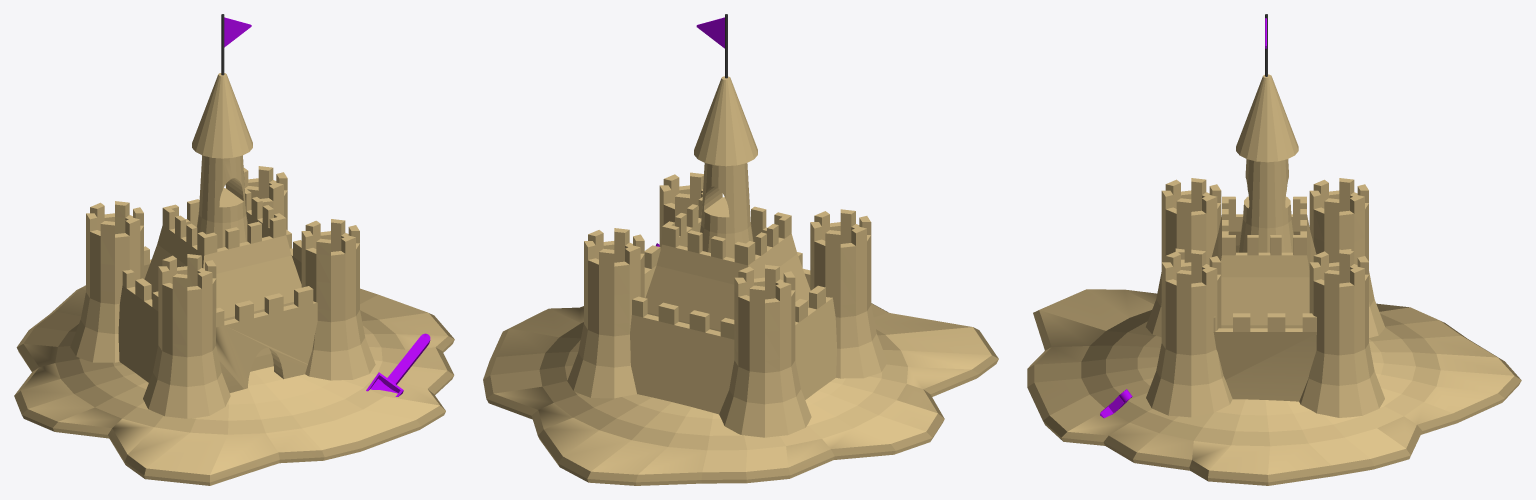
Rendered from sand-castle.glb.
3 views of the same model, side by side, from view 1: azimuth 30°, elevation 25°; view 2: azimuth 150°, elevation 25°; view 3: azimuth 270°, elevation 25° (orthographic). The views are drawn at different scales.
Parts seen in each view (by area): view 1: node-0; view 2: node-0; view 3: node-0.
Part boxes in pixels (<box>): node-0: <box>14,14,454,485</box>; node-0: <box>483,14,998,485</box>; node-0: <box>1027,14,1521,485</box>.
Bounding box in the file's own units: 1.87 × 1.58 × 1.9.
